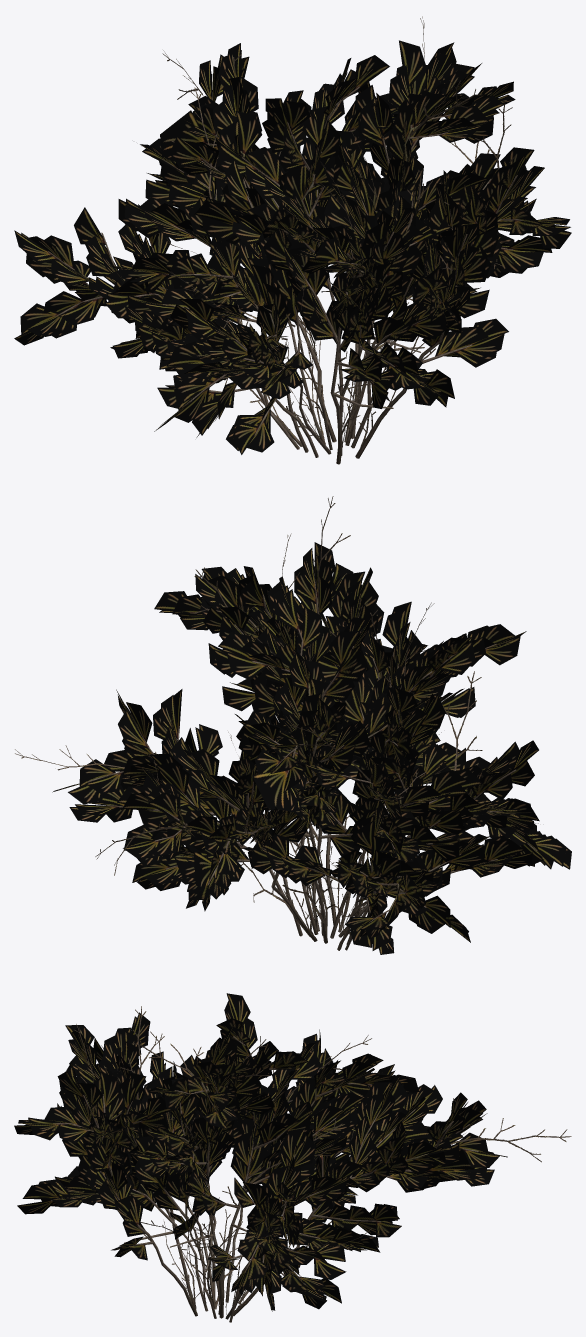
Rendered from vegetation-coastal-shrub.glb.
3 renders of one model, top to bottom at view 1: azimuth 30°, elevation 25°; view 2: azimuth 150°, elevation 25°; view 3: azimuth 270°, elevation 25°, orthographic. The views are drawn at different scales.
Parts seen in each view (by area): view 1: Shrub_leaves_LOD0, Shrub_trunk_LOD0, Shrub_twigs_LOD0; view 2: Shrub_leaves_LOD0, Shrub_trunk_LOD0, Shrub_twigs_LOD0; view 3: Shrub_leaves_LOD0, Shrub_trunk_LOD0, Shrub_twigs_LOD0.
Part boxes in pixels (left/top/right/bottom): Shrub_leaves_LOD0: left=14, top=40, right=571, bottom=454; Shrub_trunk_LOD0: left=48, top=87, right=525, bottom=464; Shrub_twigs_LOD0: left=161, top=16, right=533, bottom=449; Shrub_leaves_LOD0: left=52, top=542, right=571, bottom=954; Shrub_trunk_LOD0: left=87, top=570, right=537, bottom=950; Shrub_twigs_LOD0: left=15, top=496, right=502, bottom=941; Shrub_leaves_LOD0: left=14, top=993, right=507, bottom=1311; Shrub_trunk_LOD0: left=50, top=1036, right=478, bottom=1322; Shrub_twigs_LOD0: left=74, top=1006, right=571, bottom=1314.
Size of what is drawn, in the model's own units: 0.6968 by 0.5396 by 0.8433.
Materials: 3 (3 with a texture image).
